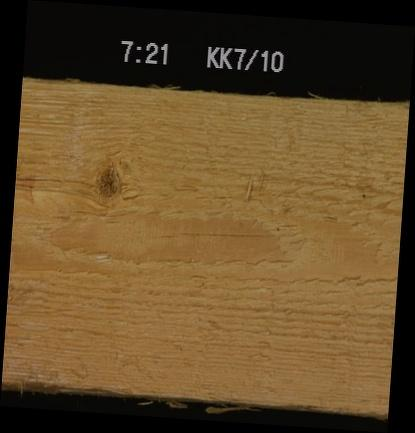sound_knot: (92, 160, 123, 202)
split: (157, 221, 288, 242), (15, 166, 95, 189)
wave: (1, 374, 137, 395)
